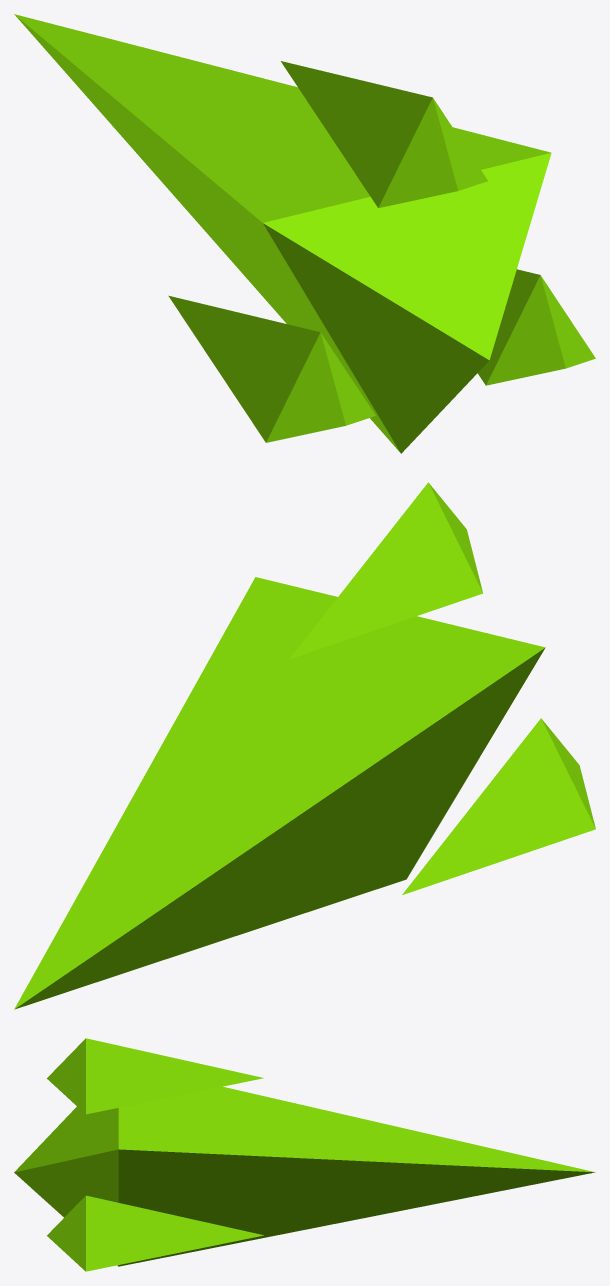
The model's file is SM_Tri_Rifle.fbx.
The picture shows the model from 3 angles, top to bottom: view 1: azimuth 30°, elevation 25°; view 2: azimuth 150°, elevation 25°; view 3: azimuth 270°, elevation 25°; orthographic projection. The views are drawn at different scales.
Visible parts, largest first — view 1: pPyramid11; view 2: pPyramid11; view 3: pPyramid11.
Part boxes in pixels (left/top/right/bottom): pPyramid11: left=14, top=14, right=595, bottom=453; pPyramid11: left=14, top=482, right=595, bottom=1009; pPyramid11: left=14, top=1038, right=595, bottom=1271.
Bounding box in the file's own units: 2.44 × 2.64 × 6.06.
